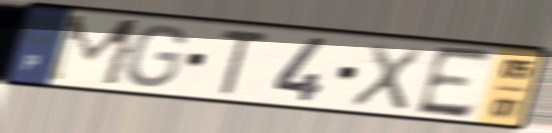4: (269, 35, 328, 105)
E: (412, 44, 497, 121)
G: (122, 23, 190, 90)
M: (42, 13, 146, 90)
T: (214, 26, 273, 97)
X: (346, 40, 427, 114)
